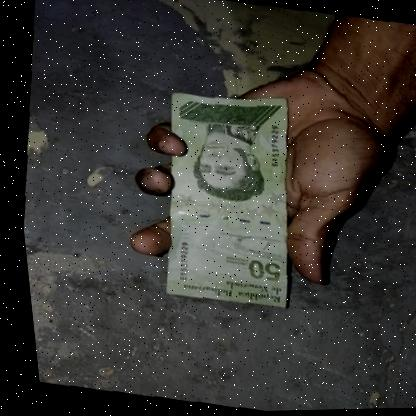fifty-front-vef: (133, 78, 315, 315)
